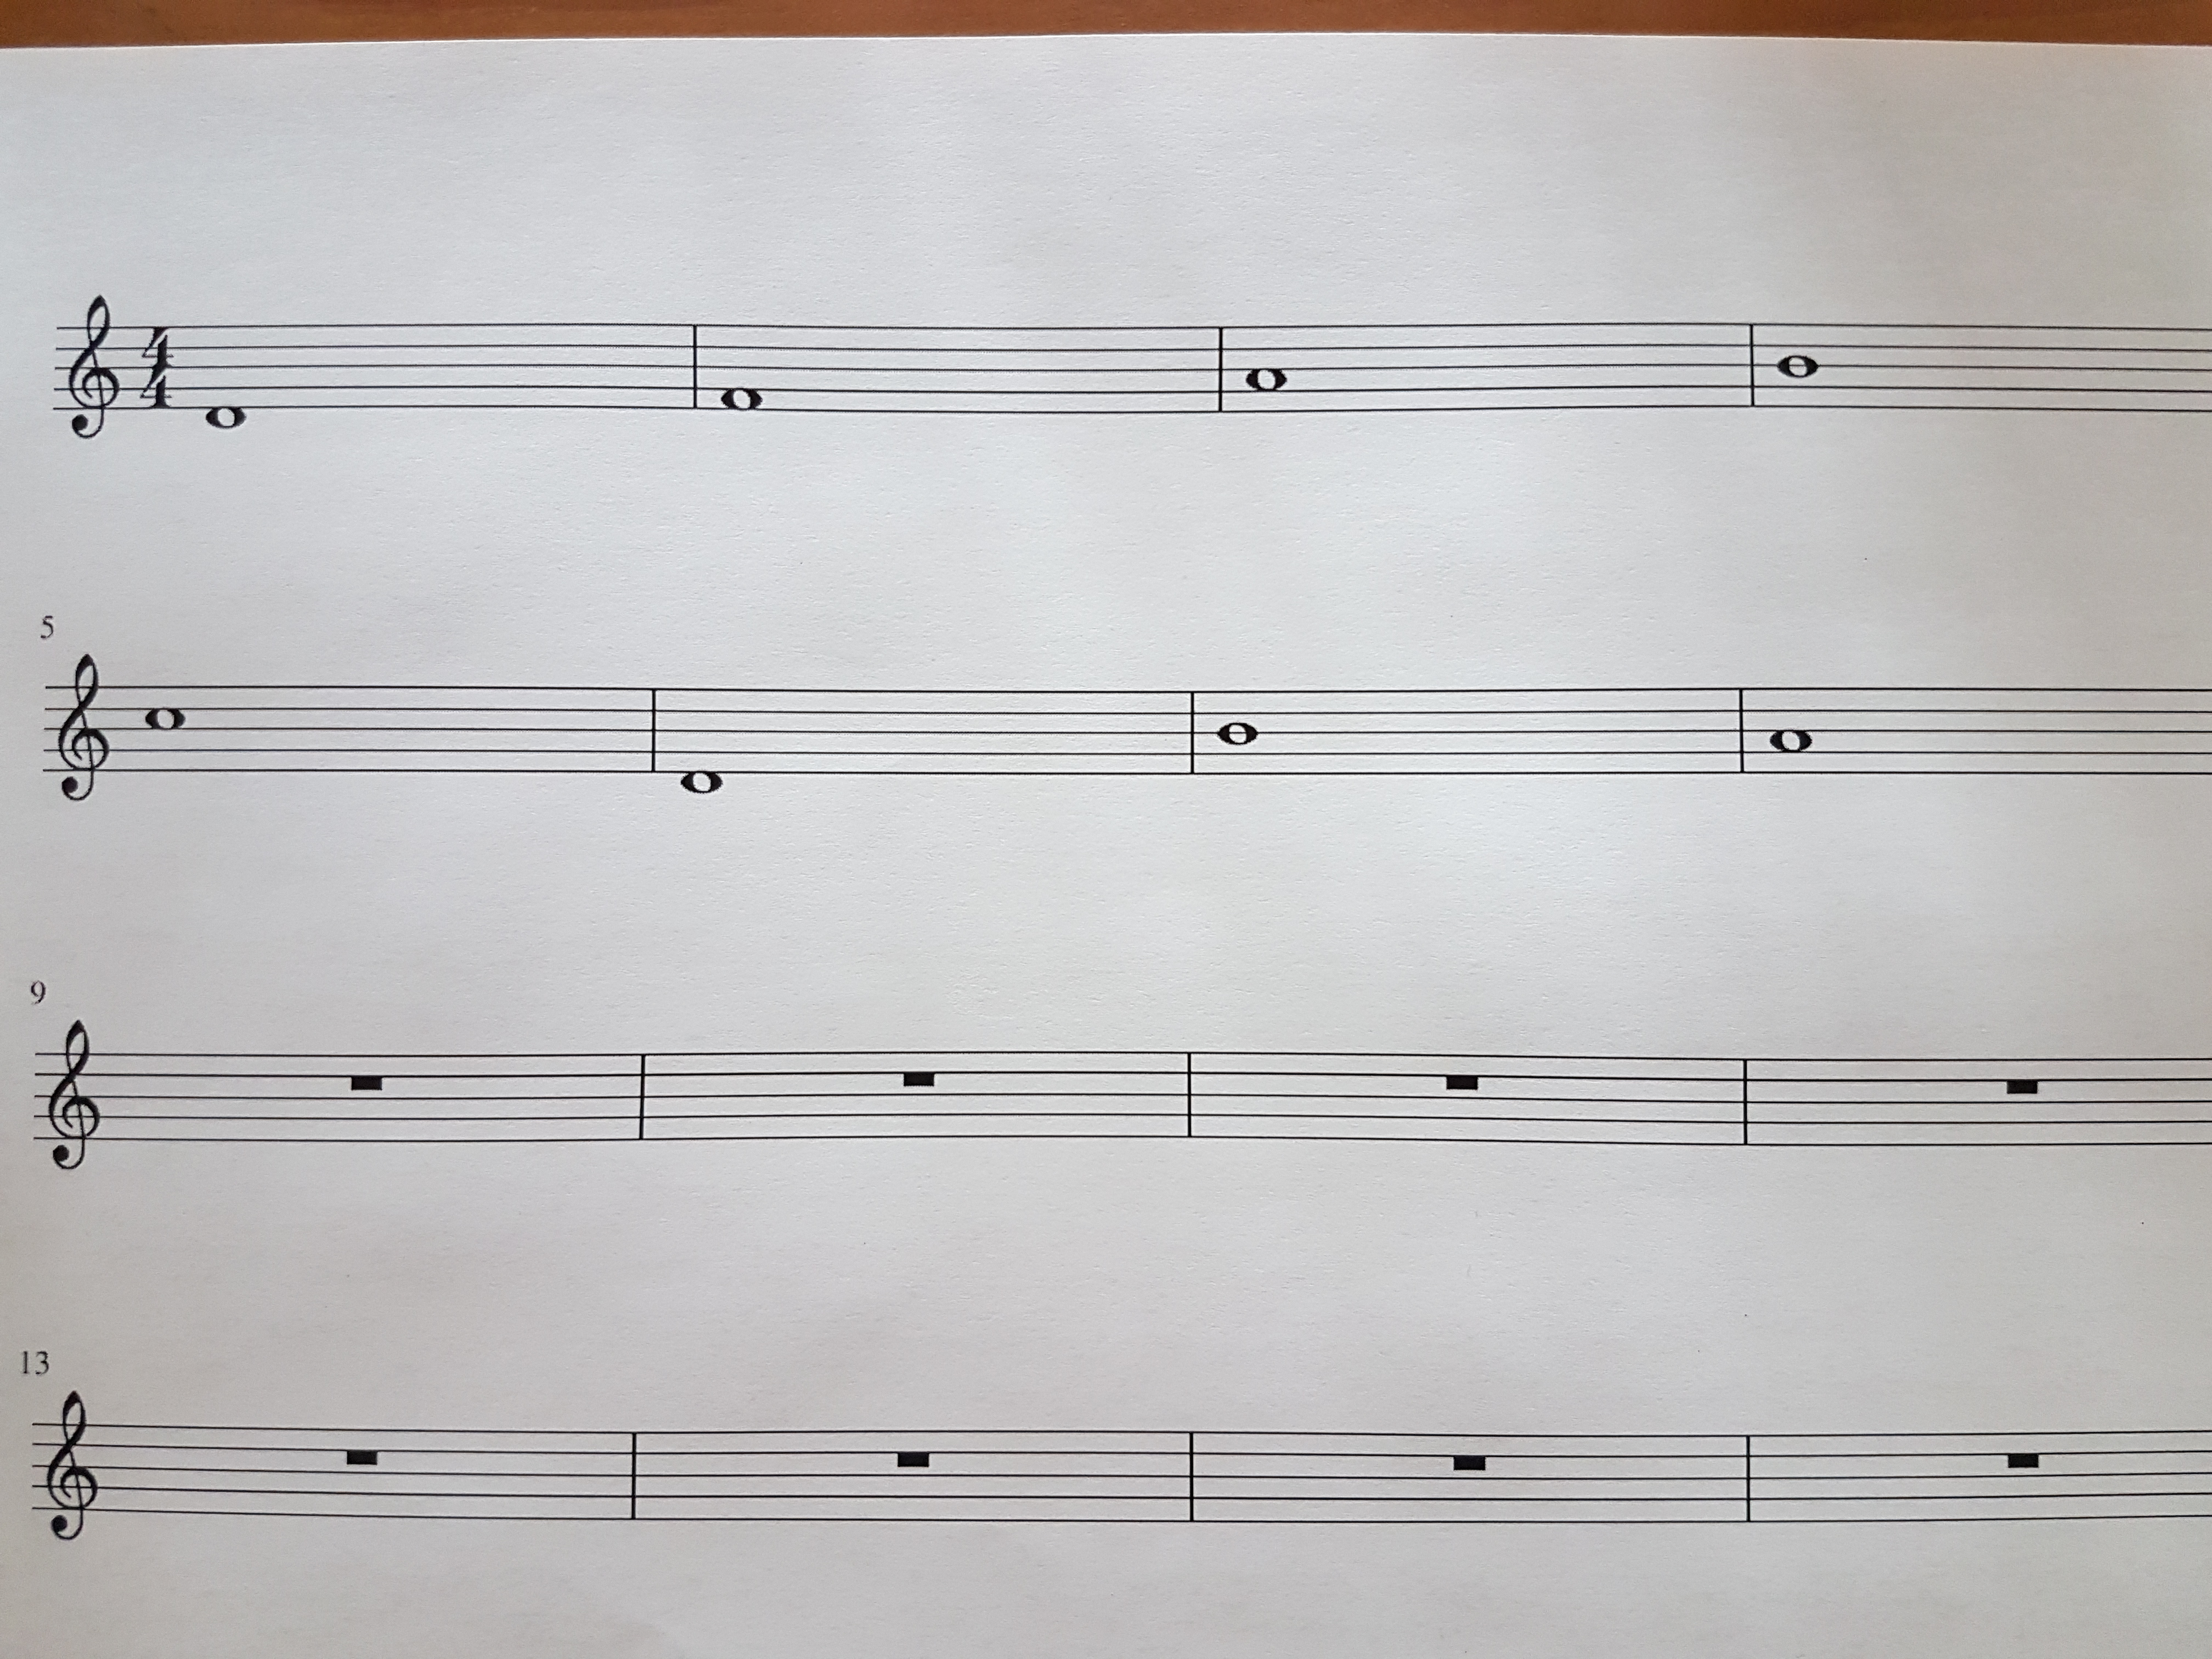key: (49, 274, 129, 453), (38, 645, 122, 816), (30, 1385, 110, 1556), (38, 1012, 111, 1182)
pipe: (1733, 1040, 1761, 1164), (1176, 1033, 1204, 1155), (622, 1415, 650, 1535), (641, 674, 667, 793), (1737, 1417, 1761, 1542), (1183, 1417, 1207, 1539), (631, 1037, 653, 1162), (1730, 671, 1752, 795), (1181, 676, 1204, 791), (681, 300, 700, 432), (1209, 308, 1230, 429), (1740, 310, 1763, 418)
semibreve_a: (1756, 660, 1827, 821), (1233, 296, 1301, 450)
semibreve_c: (136, 652, 204, 809)
semibreve_d: (672, 660, 740, 821), (192, 300, 260, 444)
semibreve_f: (705, 291, 780, 448)
semibreve_h: (1766, 295, 1832, 441), (1211, 660, 1270, 819)
